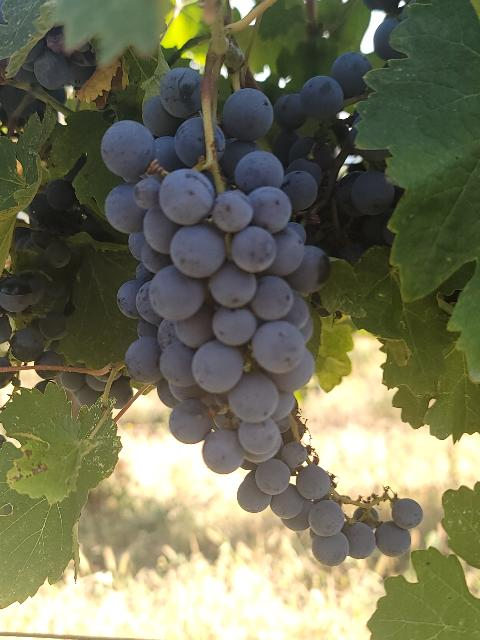grapes: (101, 69, 421, 565)
